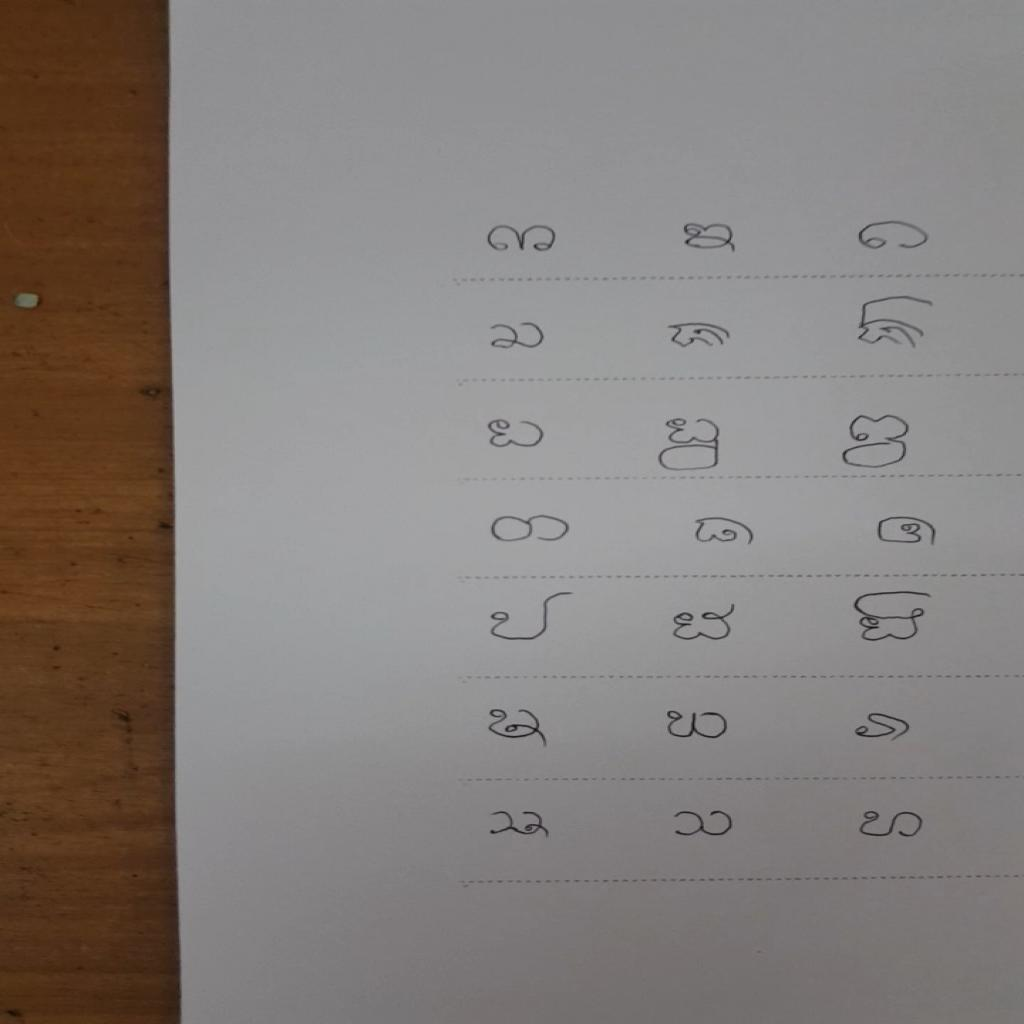LN001: (481, 222, 563, 258)
LN002: (677, 219, 743, 256)
LN003: (853, 219, 934, 253)
LN007: (486, 320, 550, 352)
LN008: (663, 320, 737, 353)
LN009: (854, 294, 937, 352)
LN013: (484, 417, 549, 453)
LN014: (654, 417, 725, 474)
LN015: (838, 413, 914, 471)
LN019: (486, 514, 575, 546)
LN020: (689, 513, 759, 550)
LN021: (871, 515, 942, 550)
LN025: (484, 589, 577, 645)
LN026: (669, 601, 741, 644)
LN027: (848, 589, 935, 646)
LN031: (483, 704, 551, 751)
LN032: (661, 709, 733, 743)
LN033: (850, 711, 916, 744)
LN037: (483, 808, 557, 843)
LN038: (668, 808, 739, 841)
LN039: (854, 808, 929, 842)
